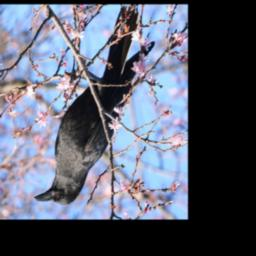Crow: (33, 8, 155, 207)
